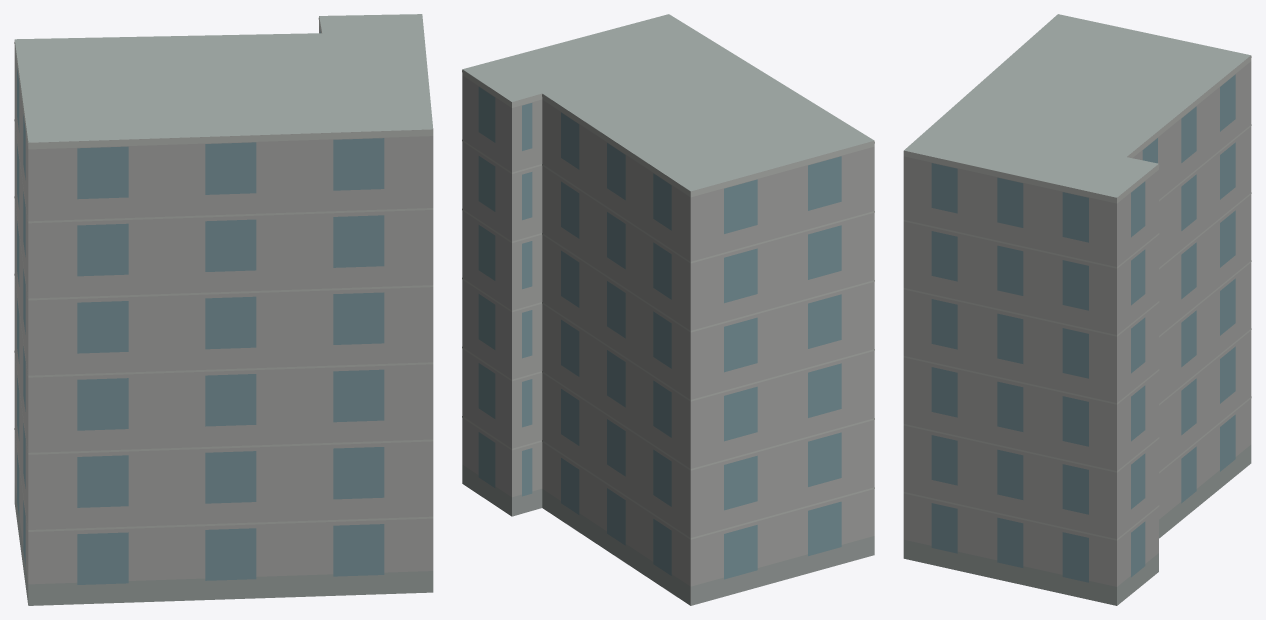
Rendered from survey-upis-32807907.glb.
The picture shows the model from 3 angles, left to right: view 1: azimuth 30°, elevation 25°; view 2: azimuth 150°, elevation 25°; view 3: azimuth 270°, elevation 25°; orthographic projection. The views are drawn at different scales.
Parts seen in each view (by area): view 1: survey-upis-32807907.tmp; view 2: survey-upis-32807907.tmp; view 3: survey-upis-32807907.tmp.
Part boxes in pixels (box(x1,y1,x2,y2)): survey-upis-32807907.tmp: box(14, 14, 433, 605); survey-upis-32807907.tmp: box(462, 14, 874, 605); survey-upis-32807907.tmp: box(903, 14, 1251, 605).
Bounding box in the file's own units: 16.49 × 17.05 × 13.18.
